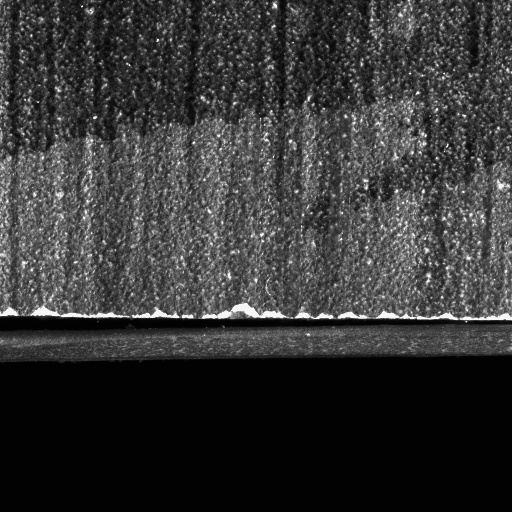kaijiao: (0, 305, 511, 369)
